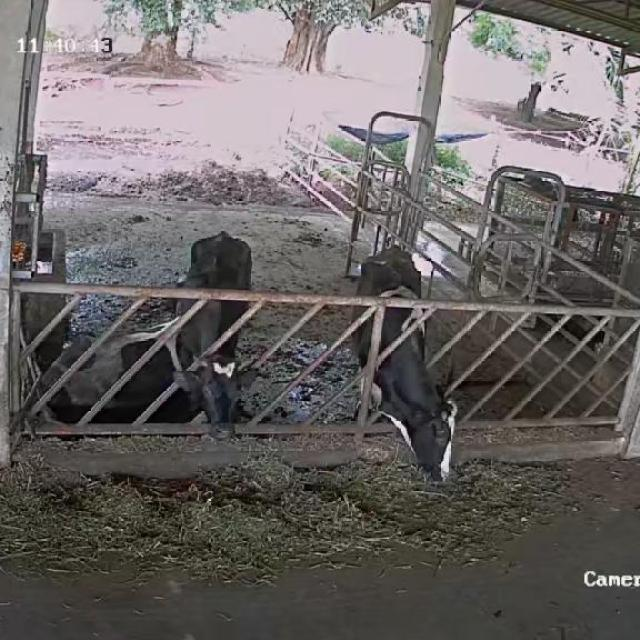feeding: (351, 246, 456, 483), (172, 229, 254, 441)
lying down: (42, 319, 192, 430)
